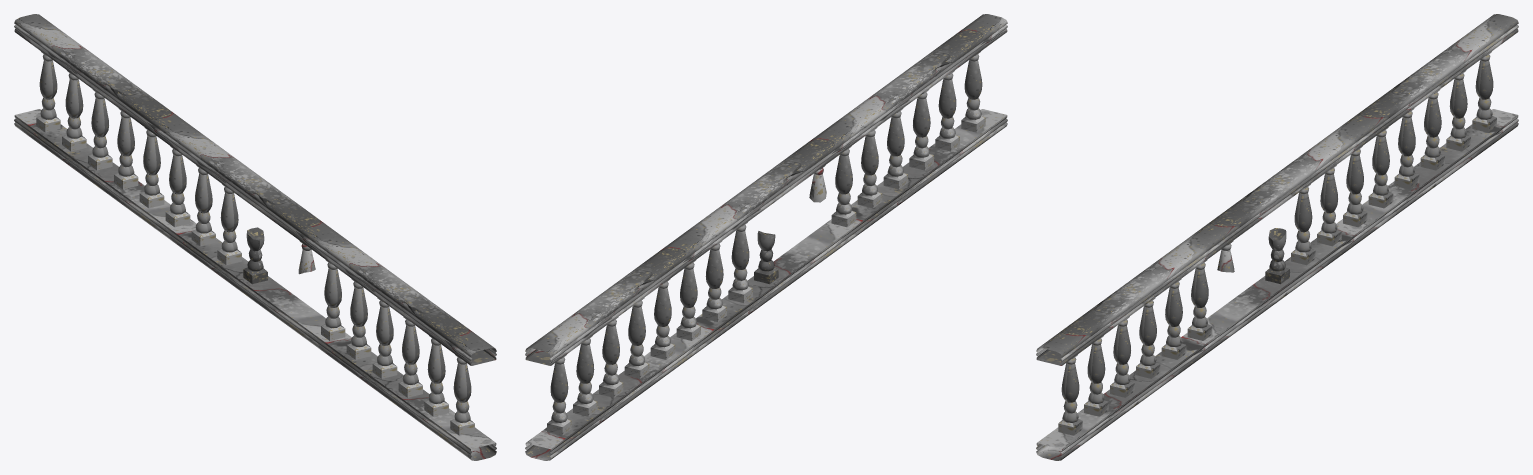
The model's file is Railing_5.fbx.
3 renders of one model, left to right at view 1: azimuth 30°, elevation 25°; view 2: azimuth 150°, elevation 25°; view 3: azimuth 330°, elevation 25°, orthographic.
Parts seen in each view (by area): view 1: Railing_5; view 2: Railing_5; view 3: Railing_5.
Part boxes in pixels (x1,y1,x2,y2): Railing_5: (14, 14, 496, 460); Railing_5: (525, 14, 1007, 460); Railing_5: (1036, 14, 1518, 460).
Size of the model in its own units: 21.8 by 86.75 by 656.
